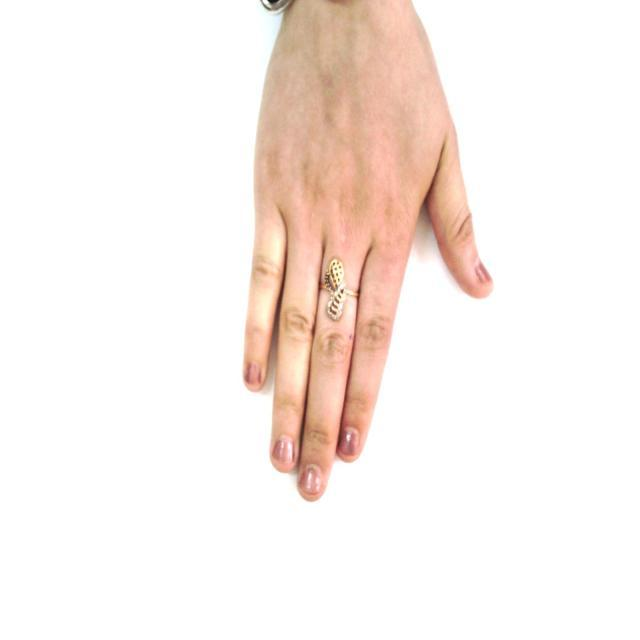Fingernail: (301, 465, 323, 497), (273, 437, 294, 468), (340, 427, 359, 456), (246, 363, 261, 386), (478, 263, 492, 283)
